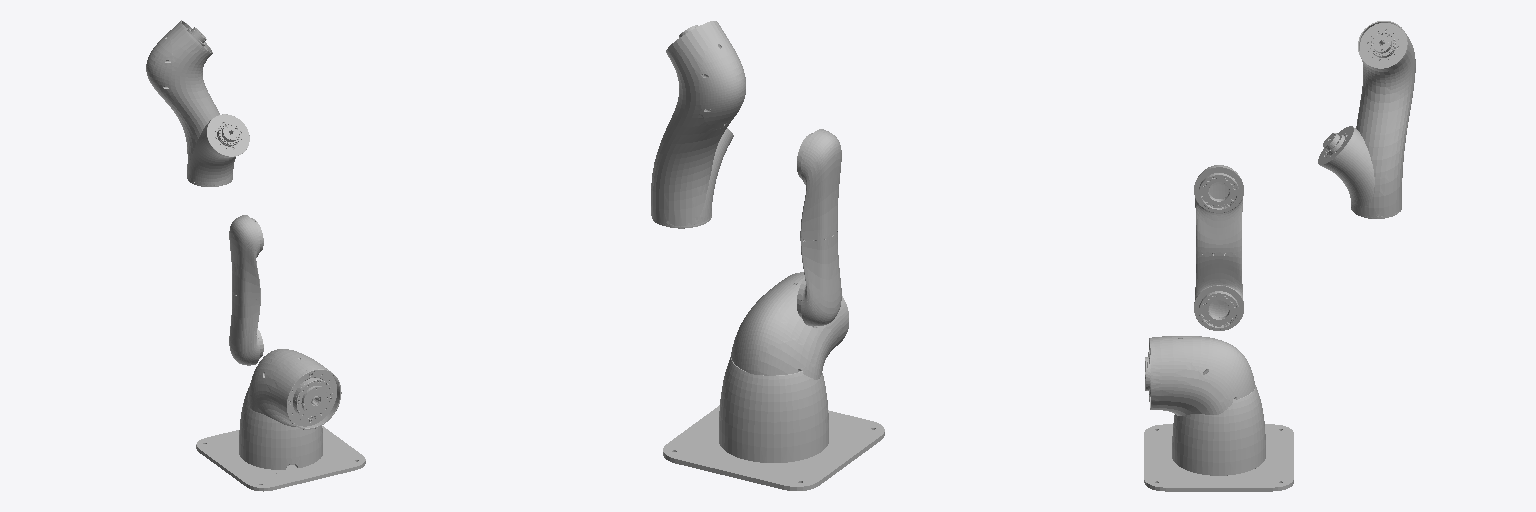
URDF robot description (robot):
<?xml version="1.0" encoding="utf-8" ?>
<!-- This URDF was automatically created by SolidWorks to URDF Exporter! Originally created by [author] ([email redacted]) 
     Commit Version: 1.6.0-4-g7f85cfe  Build Version: 1.6.7995.38578
     For more information, please see http://wiki.ros.org/sw_urdf_exporter -->
<robot name="robot">
    <link name="base_link">
        <!-- <inertial>
      <origin
        xyz="9.6595E-07 2.2406E-05 0.022616"
        rpy="0 0 0" />
      <mass
        value="3.839" />
      <inertia
        ixx="0.01337"
        ixy="2.1124E-06"
        ixz="3.5547E-06"
        iyy="0.013374"
        iyz="7.0309E-06"
        izz="0.022707" />
    </inertial> -->
        <visual>
            <origin xyz="0 0 0" rpy="0 0 0" />
            <geometry>
                <mesh filename="package://addverb_heal_description/mesh/base_link.STL" />
            </geometry>
            <material name="">
                <color rgba="0.75294 0.75294 0.75294 1" />
            </material>
        </visual>
        <collision>
            <origin xyz="0 0 0" rpy="0 0 0" />
            <geometry>
                <mesh filename="package://addverb_heal_description/mesh/base_link.STL" />
            </geometry>
        </collision>
        <inertial>
            <mass value="0.1" />
            <origin xyz="0 0 0" rpy="0 0 0" />
            <inertia ixx="0.03" iyy="0.03" izz="0.03" ixy="0.0" ixz="0.0" iyz="0.0" />
        </inertial>
    </link>
    <link name="link1">
        <inertial>
            <origin xyz="-0.012435 -2.5345E-05 0.28172" rpy="0 0 0" />
            <mass value="5.0617" />
            <inertia ixx="0.011934" ixy="-4.2772E-06" ixz="0.0016521" iyy="0.011427" iyz="3.2849E-06" izz="0.0091785" />
        </inertial>
        <visual>
            <origin xyz="0 0 0" rpy="0 0 0" />
            <geometry>
                <mesh filename="package://addverb_heal_description/mesh/link_1.STL" />
            </geometry>
            <material name="">
                <color rgba="0.75294 0.75294 0.75294 1" />
            </material>
        </visual>
        <collision>
            <origin xyz="0 0 0" rpy="0 0 0" />
            <geometry>
                <mesh filename="package://addverb_heal_description/mesh/link_1.STL" />
            </geometry>
        </collision>
    </link>
    <joint name="Joint_1" type="revolute">
        <origin xyz="0 0 0" rpy="0 0 0" />
        <parent link="base_link" />
        <child link="link1" />
        <axis xyz="0 0 1" />
        <limit lower="-1" upper="1" effort="150" velocity="2" />
    </joint>
    <link name="link2">
        <inertial>
            <origin xyz="-0.10679 3.7919E-06 0.15236" rpy="0 0 0" />
            <mass value="1.2353" />
            <inertia ixx="0.0057954" ixy="3.2114E-08" ixz="3.5658E-06" iyy="0.0048706" iyz="-6.4438E-07" izz="0.0016259" />
        </inertial>
        <visual>
            <origin xyz="0 0 0" rpy="0 0 0" />
            <geometry>
                <mesh filename="package://addverb_heal_description/mesh/link_2.STL" />
            </geometry>
            <material name="">
                <color rgba="0.75294 0.75294 0.75294 1" />
            </material>
        </visual>
        <collision>
            <origin xyz="0 0 0" rpy="0 0 0" />
            <geometry>
                <mesh filename="package://addverb_heal_description/mesh/link_2.STL" />
            </geometry>
        </collision>
    </link>
    <joint name="Joint_2" type="revolute">
        <origin xyz="0 0 0.346" rpy="0 0 0" />
        <parent link="link1" />
        <child link="link2" />
        <axis xyz="-1 0 0" />
        <limit lower="-0.30" upper="2.05" effort="150" velocity="2" />
    </joint>
    <link name="link3">
        <inertial>
            <origin xyz="-0.017248 0.035025 -2.2087E-05" rpy="0 0 0" />
            <mass value="3.5577" />
            <inertia ixx="0.0066247" ixy="-0.00095453" ixz="1.793E-06" iyy="0.0050017" iyz="1.7882E-06" izz="0.0060636" />
        </inertial>
        <visual>
            <origin xyz="0 0 0" rpy="0 0 0" />
            <geometry>
                <mesh filename="package://addverb_heal_description/mesh/link_3.STL" />
            </geometry>
            <material name="">
                <color rgba="0.75294 0.75294 0.75294 1" />
            </material>
        </visual>
        <collision>
            <origin xyz="0 0 0" rpy="0 0 0" />
            <geometry>
                <mesh filename="package://addverb_heal_description/mesh/link_3.STL" />
            </geometry>
        </collision>
    </link>
    <joint name="Joint_3" type="revolute">
        <origin xyz="0 0 0.305" rpy="0 0 0" />
        <parent link="link2" />
        <child link="link3" />
        <axis xyz="1 0 0" />
        <limit lower="-1.57" upper="0.9" effort="150" velocity="2" />
    </joint>
    <link name="link4">
        <inertial>
            <origin xyz="-0.047999 -0.10939 4.4809E-05" rpy="0 0 0" />
            <mass value="1.31" />
            <inertia ixx="0.0014749" ixy="0.00050231" ixz="1.7564E-06" iyy="0.0016894" iyz="-1.9993E-06" izz="0.0017778" />
        </inertial>
        <visual>
            <origin xyz="0 0 0" rpy="0 0 0" />
            <geometry>
                <mesh filename="package://addverb_heal_description/mesh/link_4.STL" />
            </geometry>
            <material name="">
                <color rgba="0.75294 0.75294 0.75294 1" />
            </material>
        </visual>
        <collision>
            <origin xyz="0 0 0" rpy="0 0 0" />
            <geometry>
                <mesh filename="package://addverb_heal_description/mesh/link_4.STL" />
            </geometry>
        </collision>
    </link>
    <joint name="Joint_4" type="revolute">
        <origin xyz="-0.0009127 0.36813 0" rpy="0 0 0" />
        <parent link="link3" />
        <child link="link4" />
        <axis xyz="0 1 0" />
        <limit lower="-1.4" upper="1.4" effort="80" velocity="2" />
    </joint>
    <link name="link5">
        <inertial>
            <origin xyz="-0.0015193 -0.0027725 -0.044032" rpy="0 0 0" />
            <mass value="1.1965" />
            <inertia ixx="0.0010777" ixy="-3.7989E-05" ixz="2.9305E-05" iyy="0.0010311" iyz="4.9507E-05" izz="0.0013412" />
        </inertial>
        <visual>
            <origin xyz="0 0 0" rpy="0 0 0" />
            <geometry>
                <mesh filename="package://addverb_heal_description/mesh/link_5.STL" />
            </geometry>
            <material name="">
                <color rgba="0.75294 0.75294 0.75294 1" />
            </material>
        </visual>
        <collision>
            <origin xyz="0 0 0" rpy="0 0 0" />
            <geometry>
                <mesh filename="package://addverb_heal_description/mesh/link_5.STL" />
            </geometry>
        </collision>
    </link>
    <joint name="Joint_5" type="revolute">
        <origin xyz="0 0 0" rpy="0 0 0" />
        <parent link="link4" />
        <child link="link5" />
        <axis xyz="0.5 0.86603 0" />
        <limit lower="-3.14" upper="3.14" effort="80" velocity="2" />
    </joint>
    <link name="tool">
        <inertial>
            <origin xyz="-0.018484 -0.3079 -0.15412" rpy="0 0 0" />
            <mass value="2.348" />
            <inertia ixx="1.629" ixy="0.0010369" ixz="0.057914" iyy="1.3338" iyz="-0.30823" izz="0.38146" />
        </inertial>
        <visual>
            <origin xyz="0 0 0" rpy="0 0 0" />
            <geometry>
                <mesh filename="package://addverb_heal_description/mesh/end_effector.STL" />
            </geometry>
            <material name="">
                <color rgba="1 1 1 1" />
            </material>
        </visual>
        <collision>
            <origin xyz="0 0 0" rpy="0 0 0" />
            <geometry>
                <mesh filename="package://addverb_heal_description/mesh/end_effector.STL" />
            </geometry>
        </collision>
    </link>
    <joint name="Joint_6" type="revolute">
        <origin xyz="0 0 -0.0975" rpy="3.1416 0 0" />
        <parent link="link5" />
        <child link="tool" />
        <axis xyz="0 0 -1" />
        <limit lower="-3.14" upper="3.14" effort="80" velocity="2" />
    </joint>
    <transmission name="trans_Joint_1">
        <type>transmission_interface/SimpleTransmission</type>
        <joint name="Joint_1">
            <hardwareInterface>hardware_interface/EffortJointInterface</hardwareInterface>
        </joint>
        <actuator name="Joint_1_motor">
            <hardwareInterface>hardware_interface/EffortJointInterface</hardwareInterface>
            <mechanicalReduction>1</mechanicalReduction>
        </actuator>
    </transmission>
    <transmission name="trans_Joint_2">
        <type>transmission_interface/SimpleTransmission</type>
        <joint name="Joint_2">
            <hardwareInterface>hardware_interface/EffortJointInterface</hardwareInterface>
        </joint>
        <actuator name="Joint_2_motor">
            <hardwareInterface>hardware_interface/EffortJointInterface</hardwareInterface>
            <mechanicalReduction>1</mechanicalReduction>
        </actuator>
    </transmission>
    <transmission name="trans_Joint_3">
        <type>transmission_interface/SimpleTransmission</type>
        <joint name="Joint_3">
            <hardwareInterface>hardware_interface/EffortJointInterface</hardwareInterface>
        </joint>
        <actuator name="Joint_3_motor">
            <hardwareInterface>hardware_interface/EffortJointInterface</hardwareInterface>
            <mechanicalReduction>1</mechanicalReduction>
        </actuator>
    </transmission>
    <transmission name="trans_Joint_4">
        <type>transmission_interface/SimpleTransmission</type>
        <joint name="Joint_4">
            <hardwareInterface>hardware_interface/EffortJointInterface</hardwareInterface>
        </joint>
        <actuator name="Joint_4_motor">
            <hardwareInterface>hardware_interface/EffortJointInterface</hardwareInterface>
            <mechanicalReduction>1</mechanicalReduction>
        </actuator>
    </transmission>
    <transmission name="trans_Joint_5">
        <type>transmission_interface/SimpleTransmission</type>
        <joint name="Joint_5">
            <hardwareInterface>hardware_interface/EffortJointInterface</hardwareInterface>
        </joint>
        <actuator name="Joint_5_motor">
            <hardwareInterface>hardware_interface/EffortJointInterface</hardwareInterface>
            <mechanicalReduction>1</mechanicalReduction>
        </actuator>
    </transmission>
    <transmission name="trans_Joint_6">
        <type>transmission_interface/SimpleTransmission</type>
        <joint name="Joint_6">
            <hardwareInterface>hardware_interface/EffortJointInterface</hardwareInterface>
        </joint>
        <actuator name="Joint_6_motor">
            <hardwareInterface>hardware_interface/EffortJointInterface</hardwareInterface>
            <mechanicalReduction>1</mechanicalReduction>
        </actuator>
    </transmission>
    <gazebo>
        <plugin name="gazebo_ros_control" filename="libgazebo_ros_control.so">
            <robotNamespace>/</robotNamespace>
        </plugin>
    </gazebo>
</robot>

--- What the picture shows (computed from the rendered views, not written in the file) ---
The picture shows the robot from 3 angles, left to right: view 1: azimuth 30°, elevation 25°; view 2: azimuth 150°, elevation 25°; view 3: azimuth 270°, elevation 25°; orthographic projection.
Robot: robot — 7 links, 6 joints (6 revolute); root link base_link; default pose: all joints at 0.
Links seen in each view (by area): view 1: base_link, link1, link4, link2, link5; view 2: base_link, link4, link2, link1, link5; view 3: base_link, link4, link2, link1, link5.
Link boxes in pixels (<box>): base_link: <box>196,386,365,491</box>; link1: <box>248,349,341,465</box>; link4: <box>146,20,232,185</box>; link2: <box>229,215,263,365</box>; link5: <box>187,114,249,186</box>; base_link: <box>663,356,884,490</box>; link4: <box>651,21,745,226</box>; link2: <box>797,129,841,325</box>; link1: <box>730,272,848,379</box>; link5: <box>651,128,733,228</box>; base_link: <box>1144,385,1293,491</box>; link4: <box>1351,21,1415,218</box>; link2: <box>1194,165,1243,330</box>; link1: <box>1145,336,1254,415</box>; link5: <box>1318,126,1401,217</box>.
Bounding box of the posed robot: 0.35 × 0.6349 × 1.11 m (x, y, z).
5 mesh visuals loaded from 7 distinct referenced files (5 binary STL); not drawn: 2 (reference not matched to a file when rendering).
